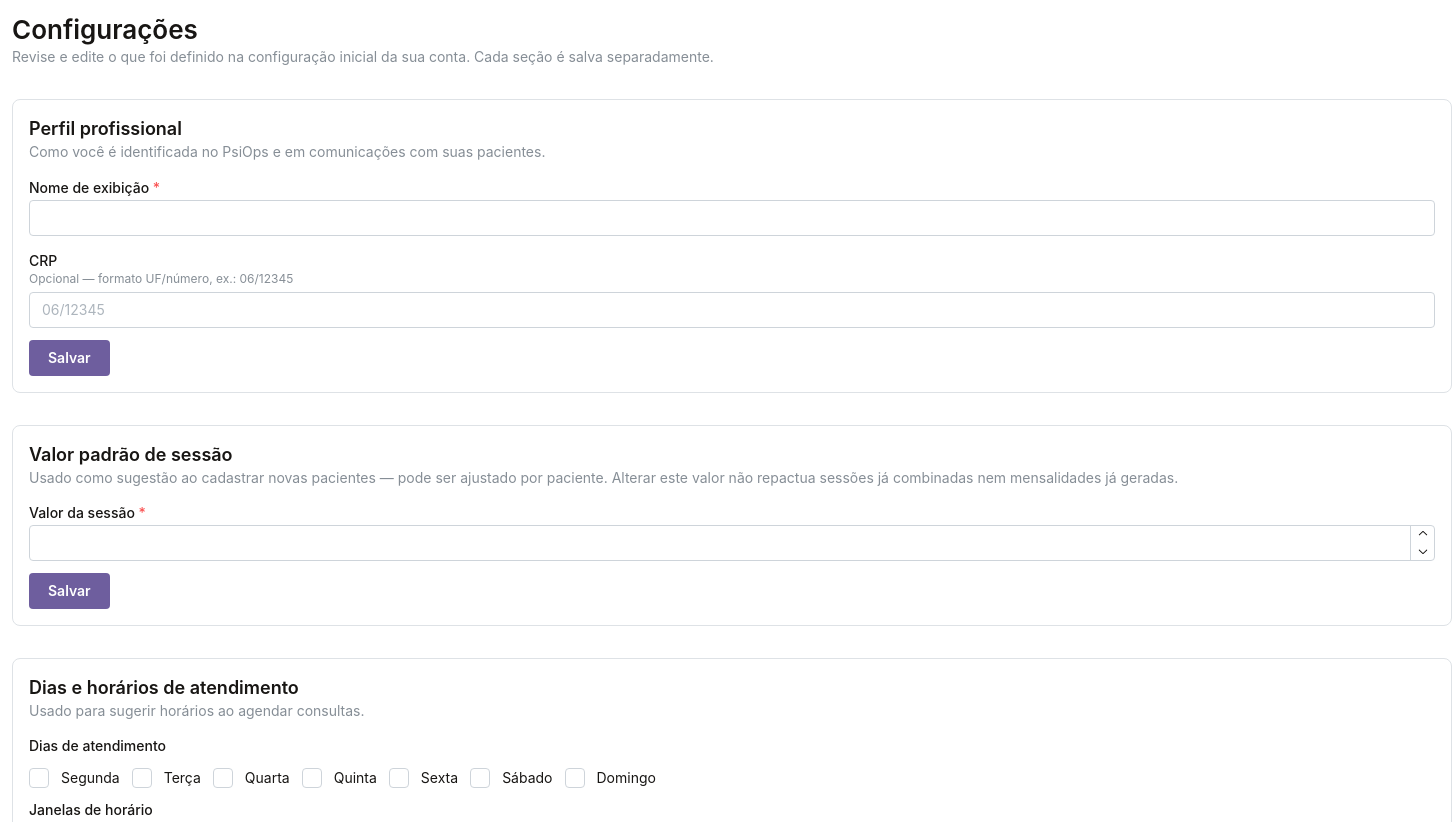
Test: SettingsPage › seção financeira: converte reais para centavos inteiros BRL e persiste via adapter
The image size is (1452, 822).
Check: the element with test id "settings-section-valor-sessao" is shown, box [12,425,1451,626]
Type "150" into the field labelled "Valor da sessão" at [732, 543], box [29,525,1435,561]
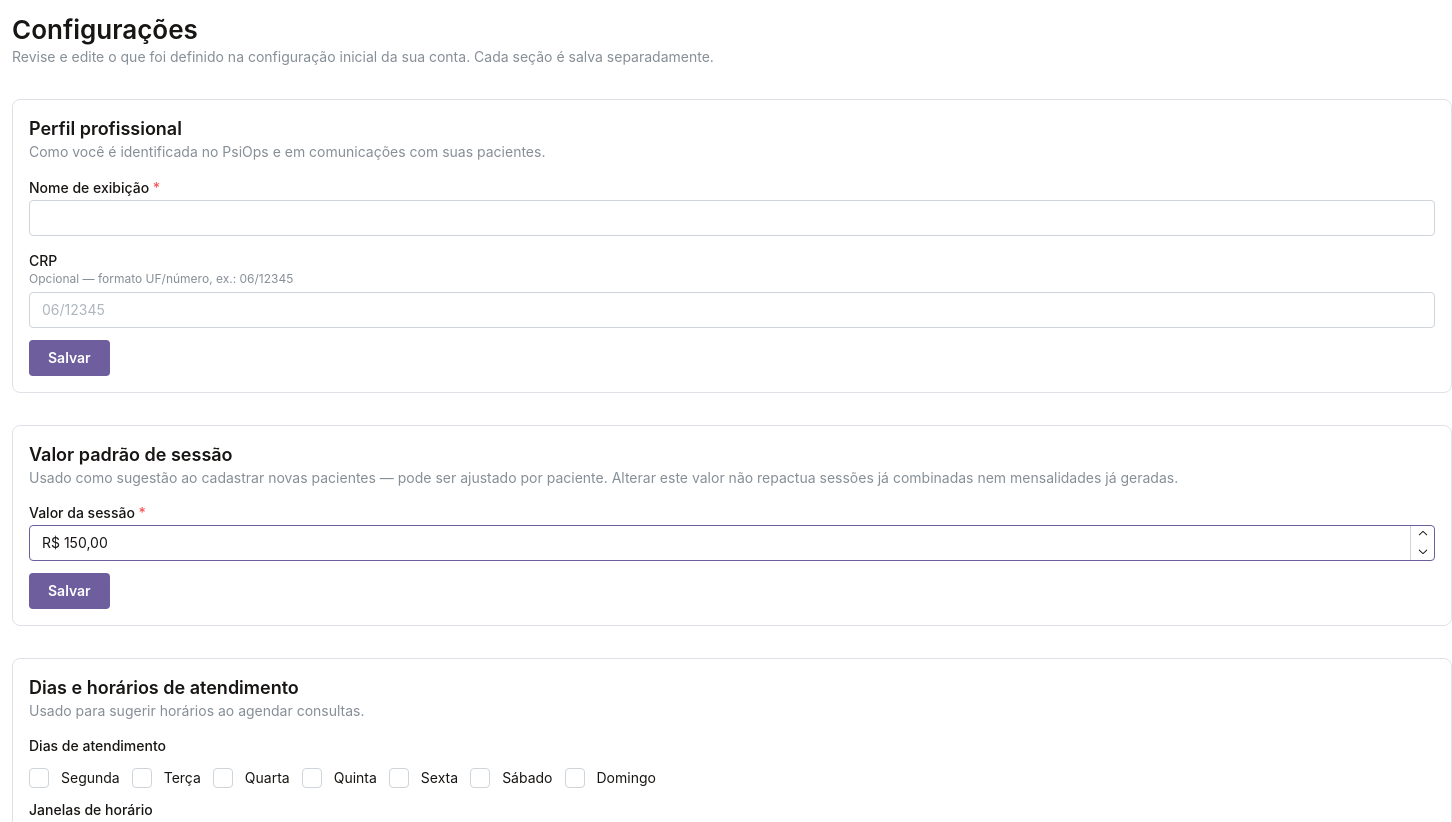
Click the submit button at [69, 591], box [29,573,110,609]
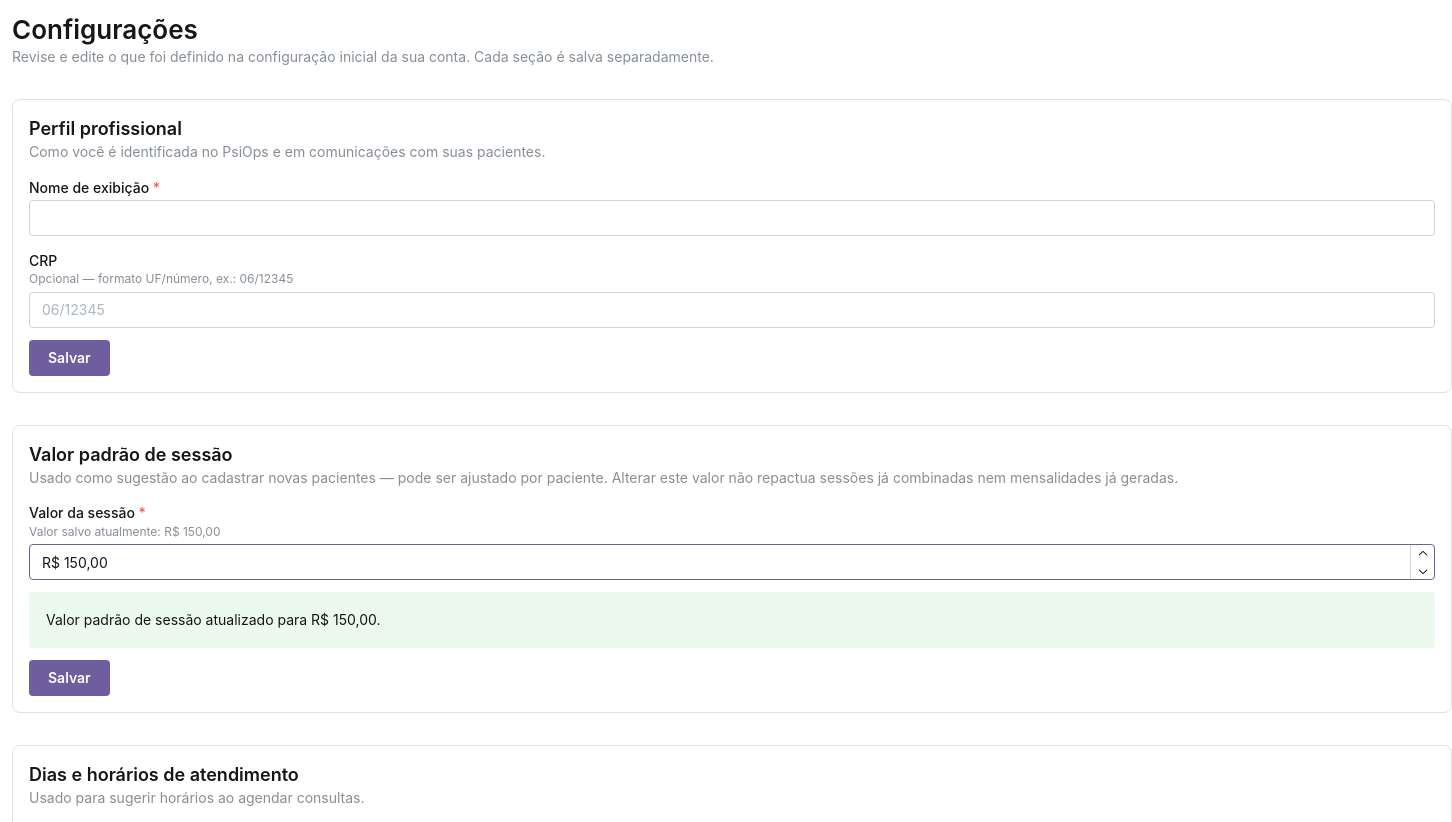
Check: the message with test id "settings-valor-sessao-success" shows "150,00", box [311,611,376,628]
